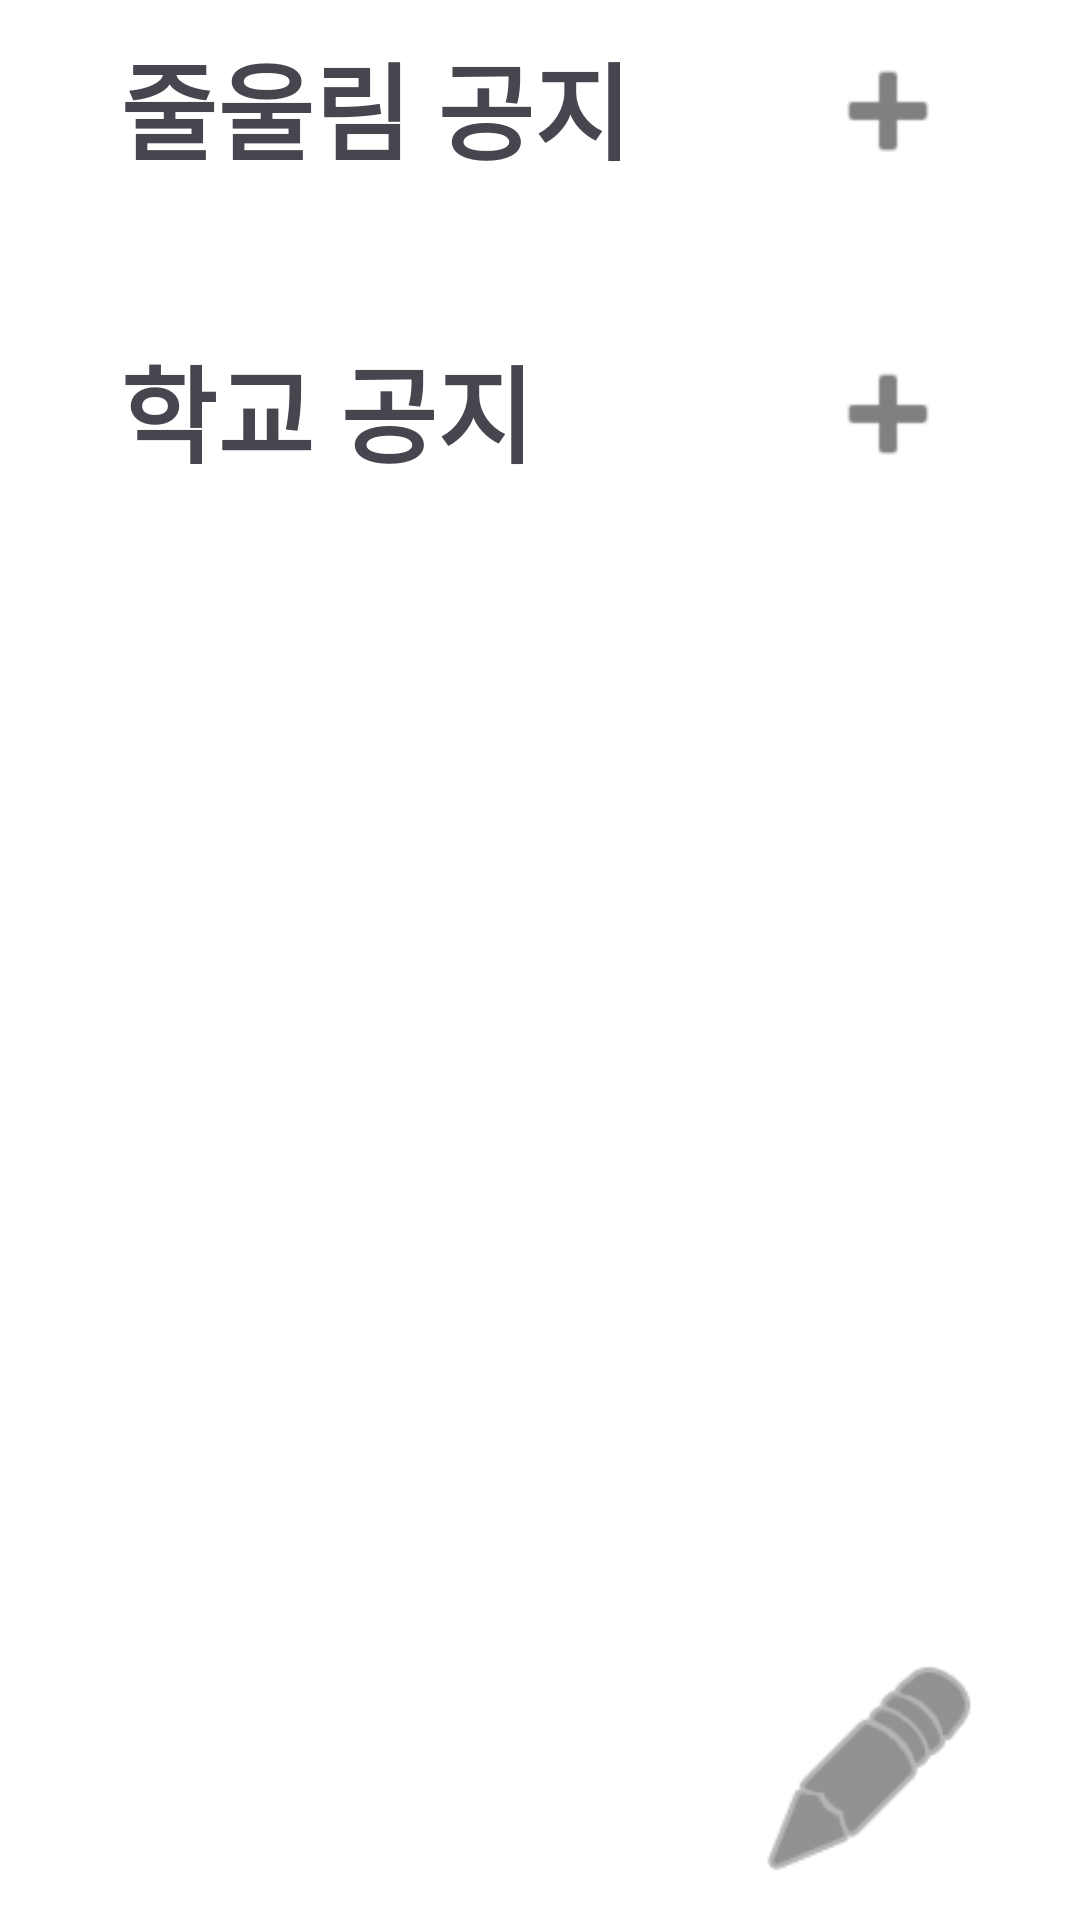

Where to tap for icons on this 1080px x 1920px app screen, as (x=x, y=y):
add: (x=888, y=111), (x=888, y=414)
edit: (x=869, y=1768)
